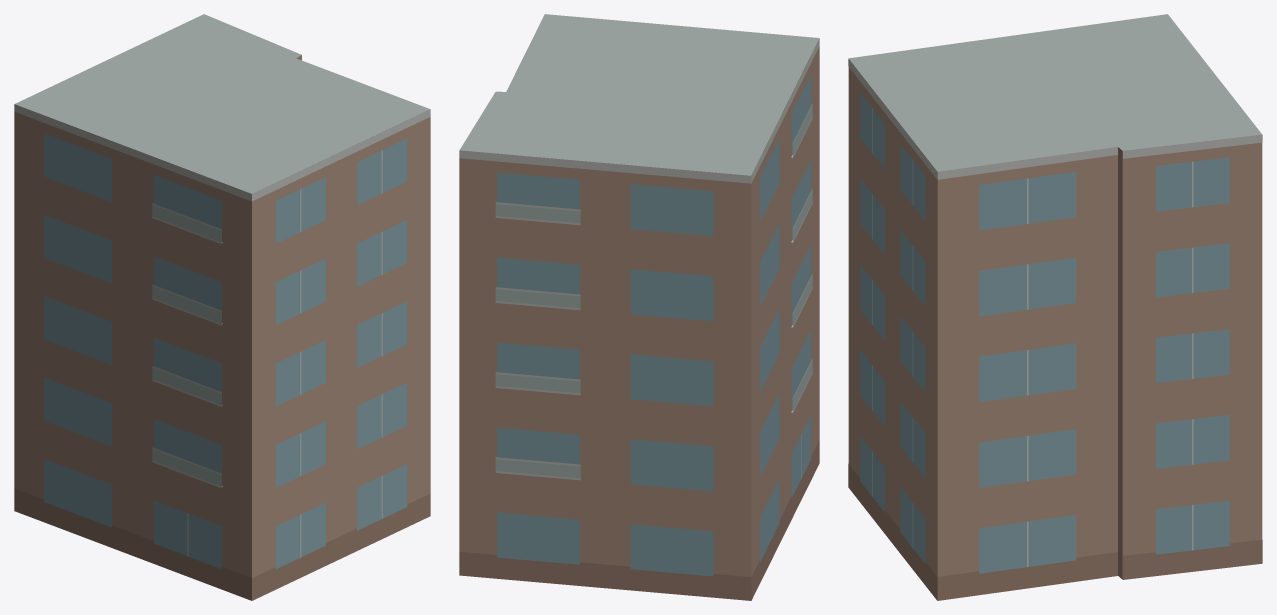
The model's file is survey-upis-32652938.glb.
3 views of the same model, side by side, from view 1: azimuth 30°, elevation 25°; view 2: azimuth 150°, elevation 25°; view 3: azimuth 270°, elevation 25° (orthographic). The views are drawn at different scales.
Visible parts, largest first — view 1: survey-upis-32652938.tmp; view 2: survey-upis-32652938.tmp; view 3: survey-upis-32652938.tmp.
Boxes of the visible parts, <box> form: survey-upis-32652938.tmp: <box>14,14,430,600</box>; survey-upis-32652938.tmp: <box>459,14,819,600</box>; survey-upis-32652938.tmp: <box>848,14,1262,600</box>.
Size of the model in its own units: 10.43 by 13.2 by 11.56.
